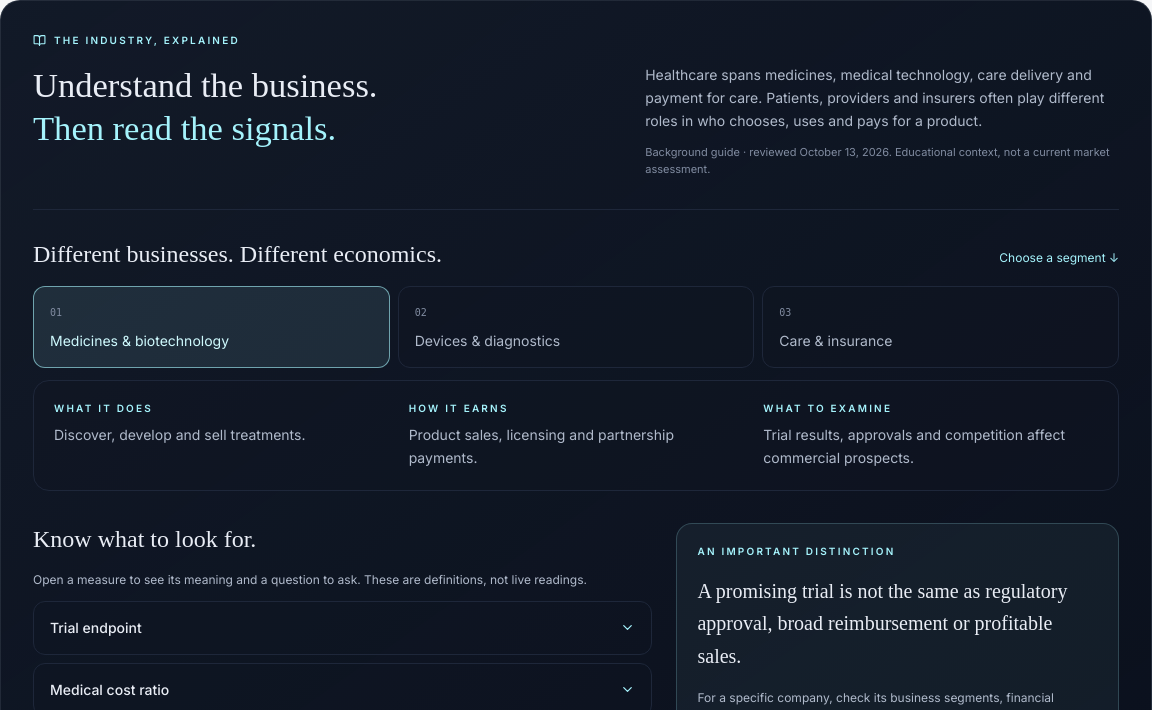
Test: provides a usable distinct guide for healthcare even without reporting
This screenshot has width=1152, height=710.
Click the button "02 Devices & diagnostics" at (487, 341), box [398,286,754,368]
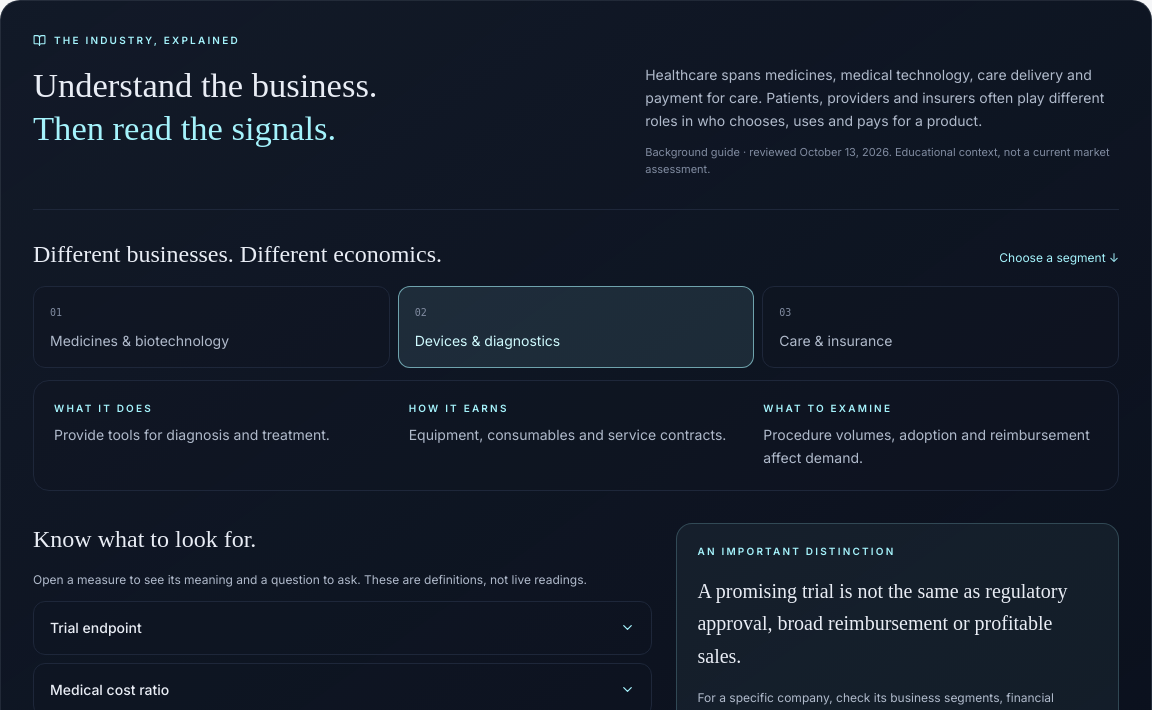
Expected: the text "definitions, not live readings" is shown, [33,572,587,587]
Expected: the text "Equipment, consumables and service contracts." is shown, [409,424,743,447]
Expected: the text "Product sales, licensing and partnership payments." is gone
